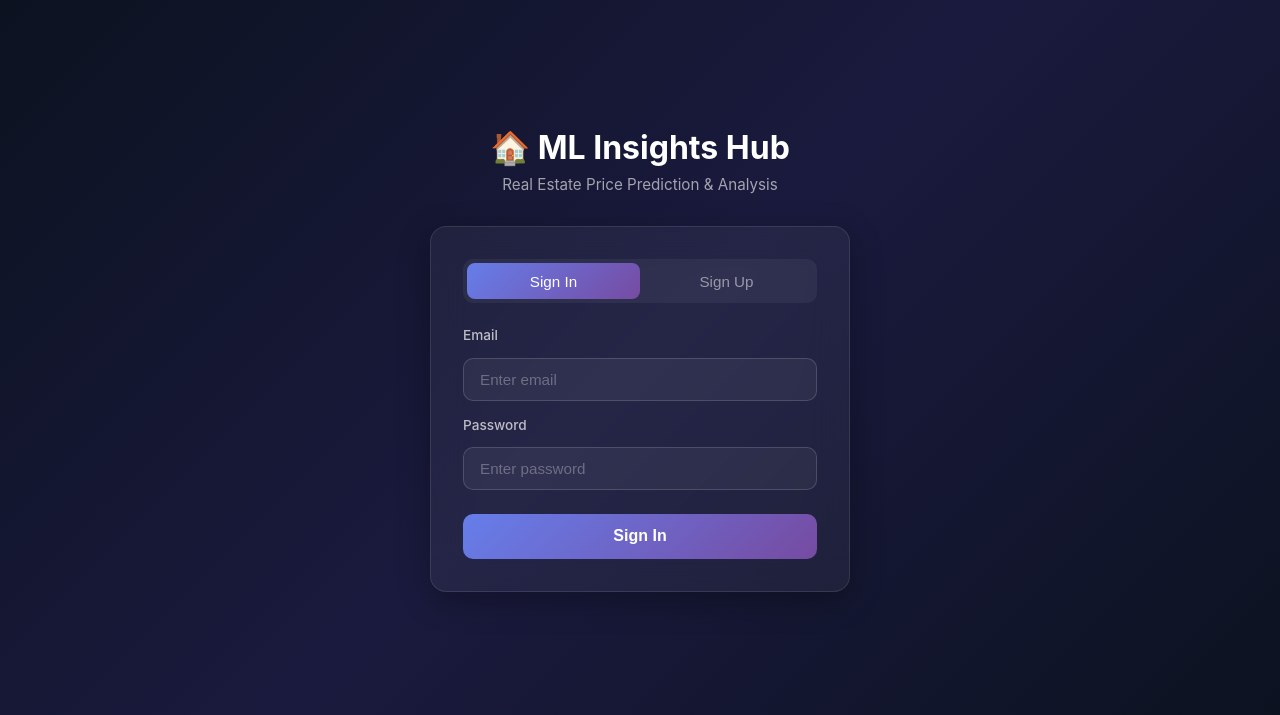
Scenario: AuthPage › shows password requirements for weak password on registration
Click the button "Sign Up" at x=726, y=281, box [640,263,813,299]
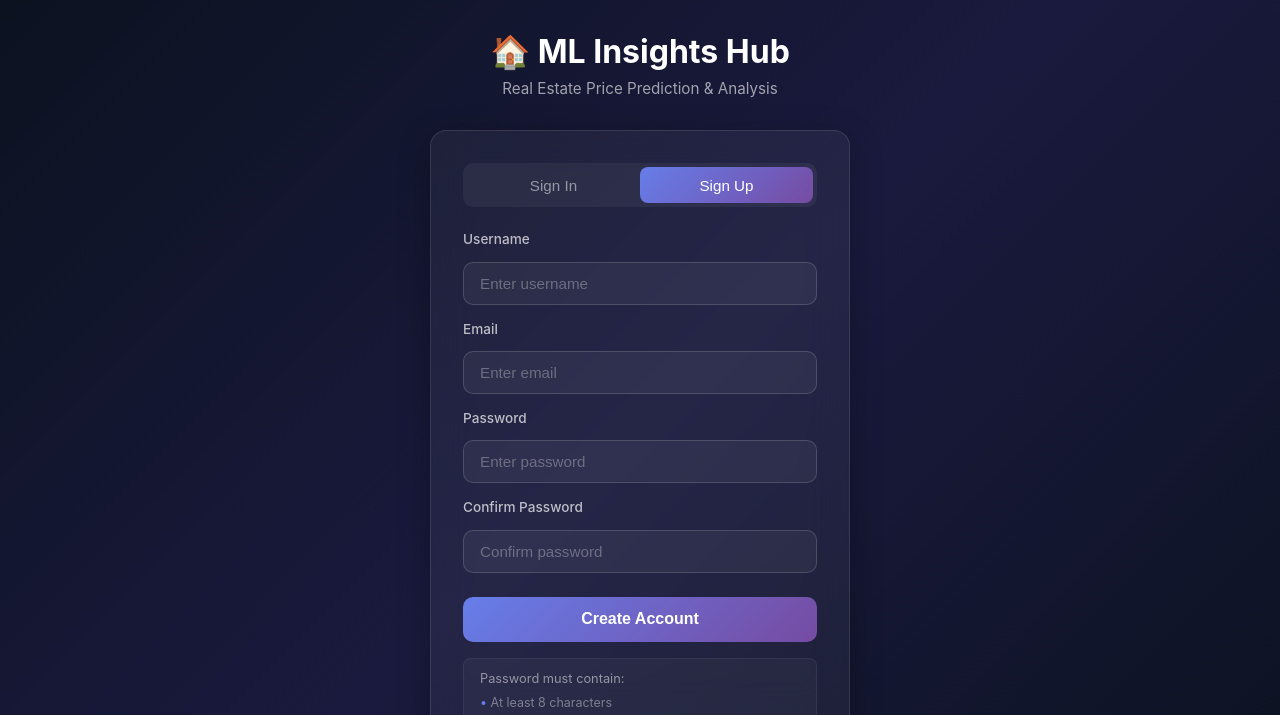
Type "testuser" into the field labelled "Username" at x=640, y=283, box [463,262,817,305]
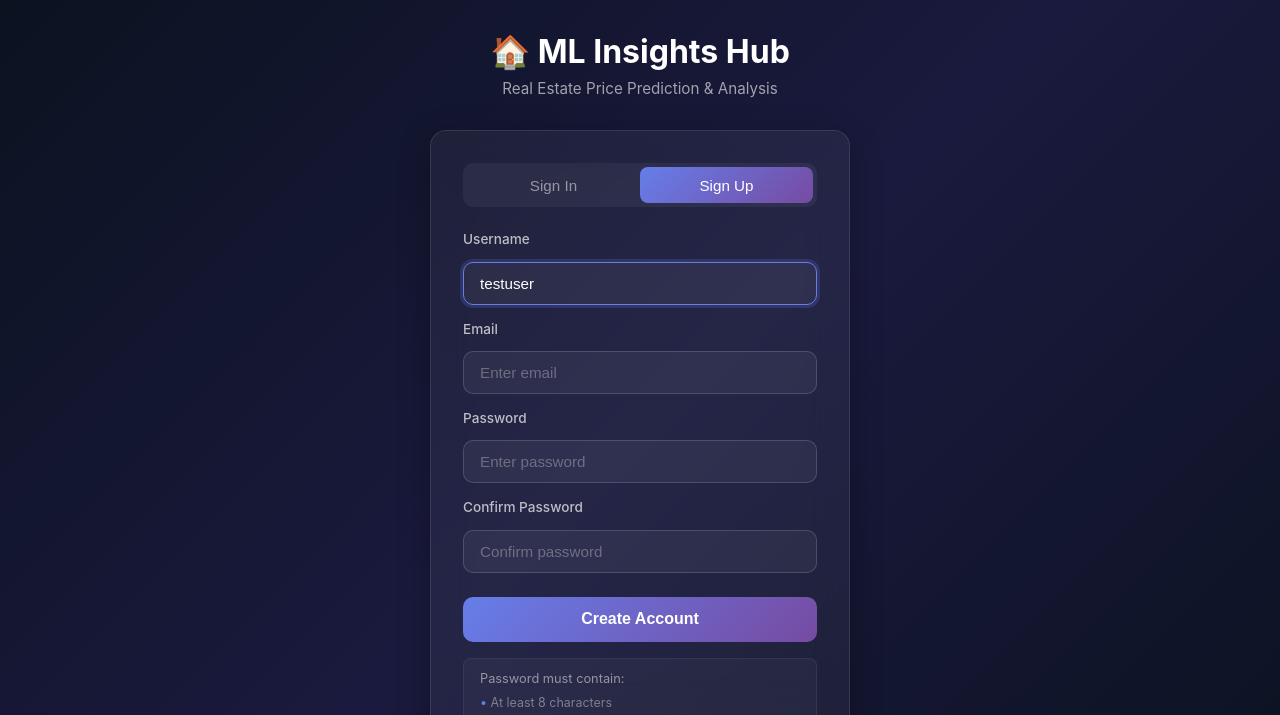
Type "test@example.com" into the field labelled "Email" at x=640, y=372, box [463,351,817,394]
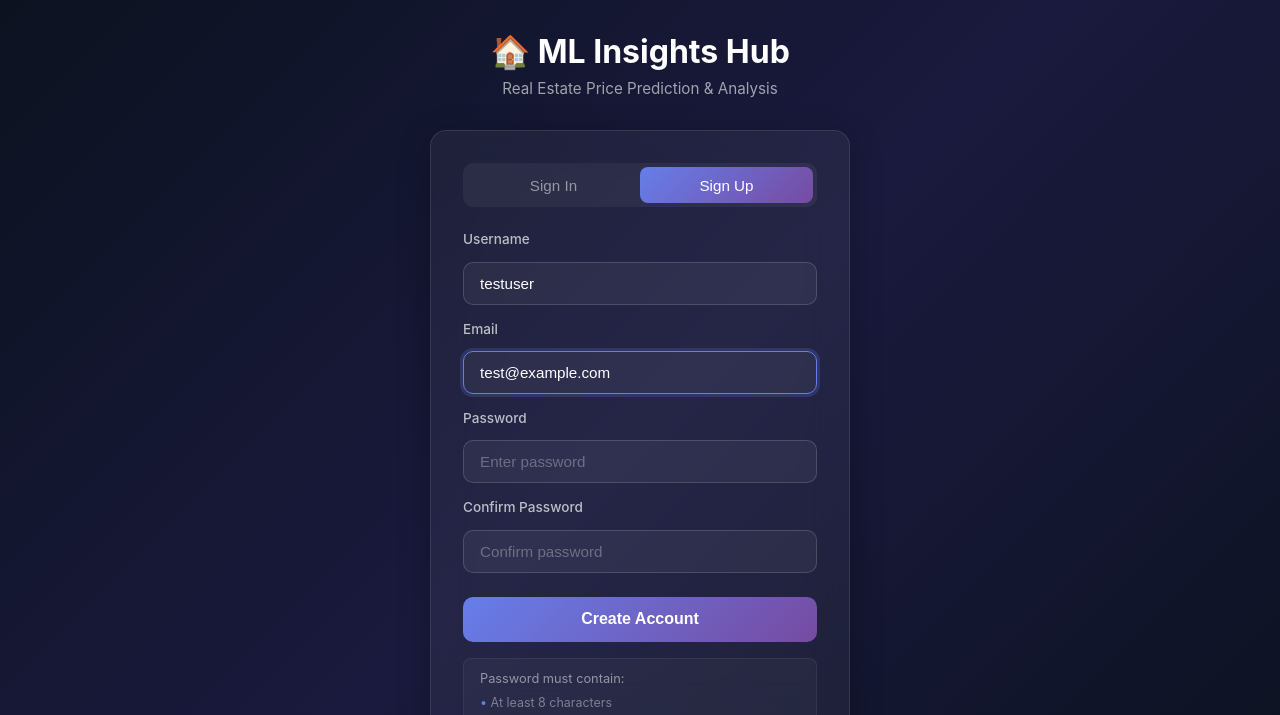
Type "weakpass" into the password field labelled "Password" at x=640, y=462, box [463,440,817,483]
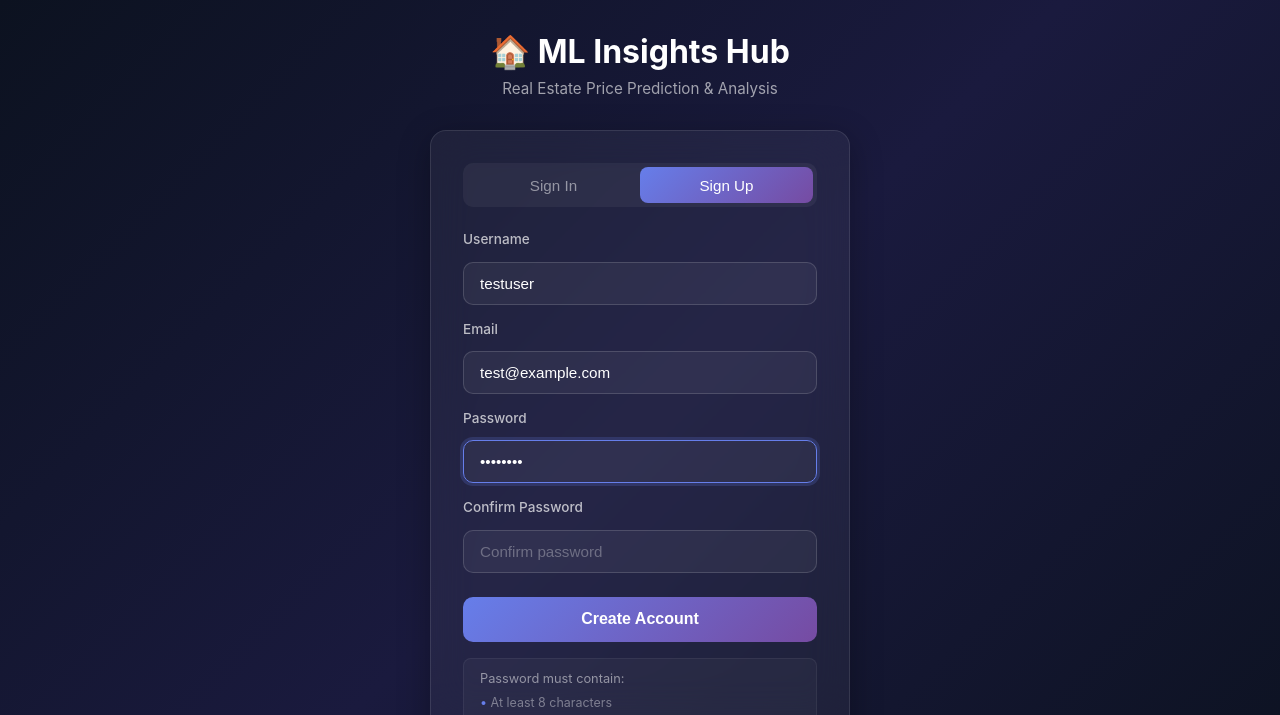
Type "weakpass" into the password field labelled "Confirm Password" at x=640, y=551, box [463,530,817,573]
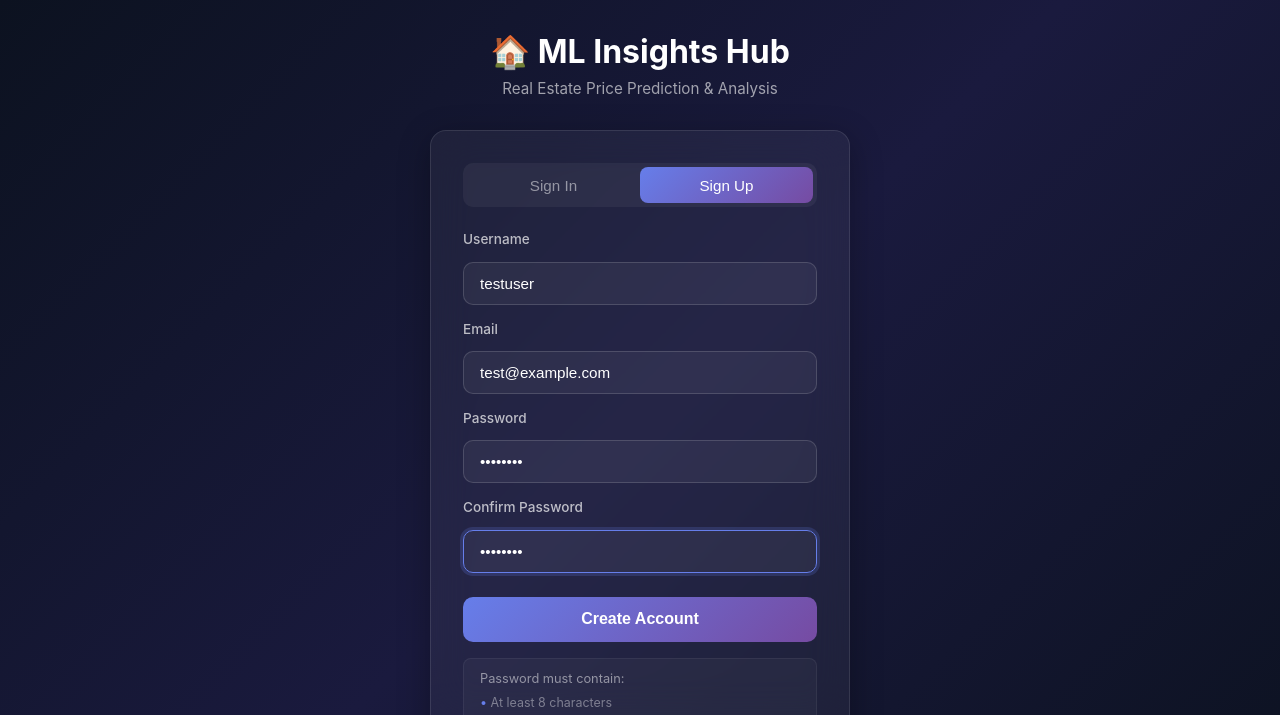
Click the button "Create Account" at x=640, y=619, box [463,597,817,642]
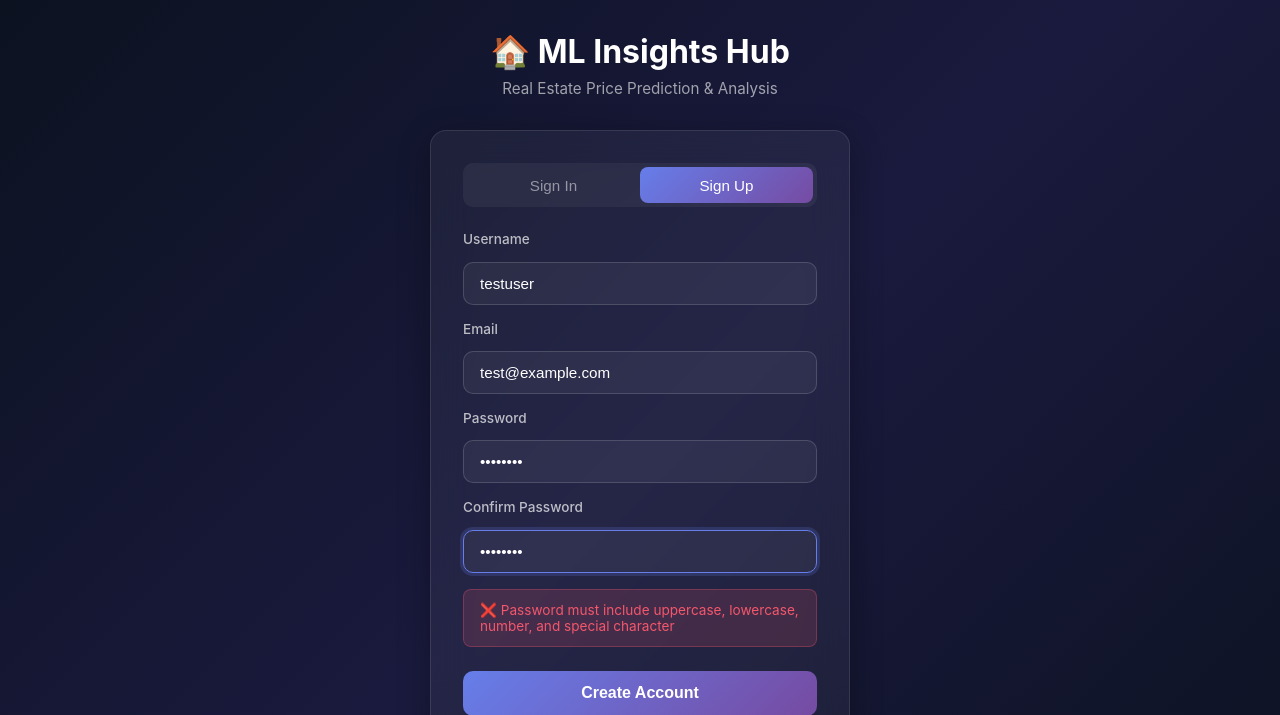
Result: the text "uppercase, lowercase, number, and special character" is shown at [480,602,799,634]
